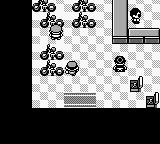leer: (40, 44, 63, 60), (72, 13, 96, 28), (41, 60, 63, 76), (41, 12, 64, 27), (32, 0, 55, 12), (71, 1, 96, 12)
main: (65, 62, 79, 75)
no-caminable: (113, 0, 128, 43), (129, 29, 159, 43), (144, 92, 160, 108), (130, 77, 142, 92)
npc: (49, 25, 63, 39), (114, 57, 126, 72), (130, 9, 142, 23)
puerta: (61, 92, 99, 108)
